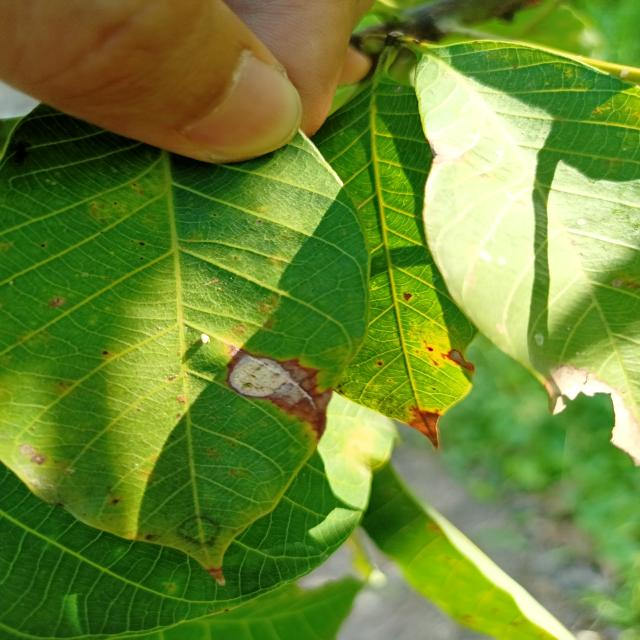Colletotrichum: (102, 350, 108, 356), (139, 241, 145, 246), (40, 244, 46, 248), (213, 213, 217, 217)
Leaf-Blight: (229, 354, 311, 405)
